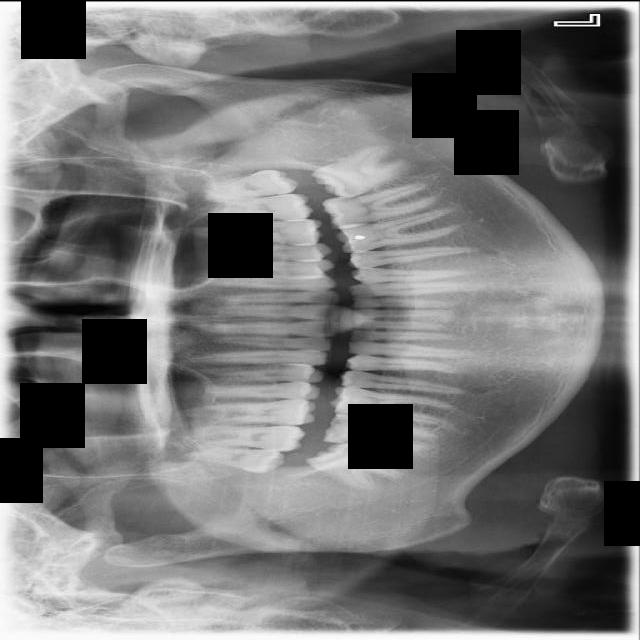3M ESPE Implant: (187, 446, 285, 472)
52: (335, 220, 390, 253)
73: (578, 26, 590, 35)
BioHorizons Implant: (194, 192, 312, 223)
BioLife Implant: (198, 166, 299, 201)
Biomet 3i Implant: (310, 131, 415, 209)
Blue Sky Bio Implant: (320, 179, 440, 232)
Caries: (190, 425, 306, 451)
Implant: (322, 410, 441, 453)
Keystone Dental Implant: (302, 424, 409, 507)
